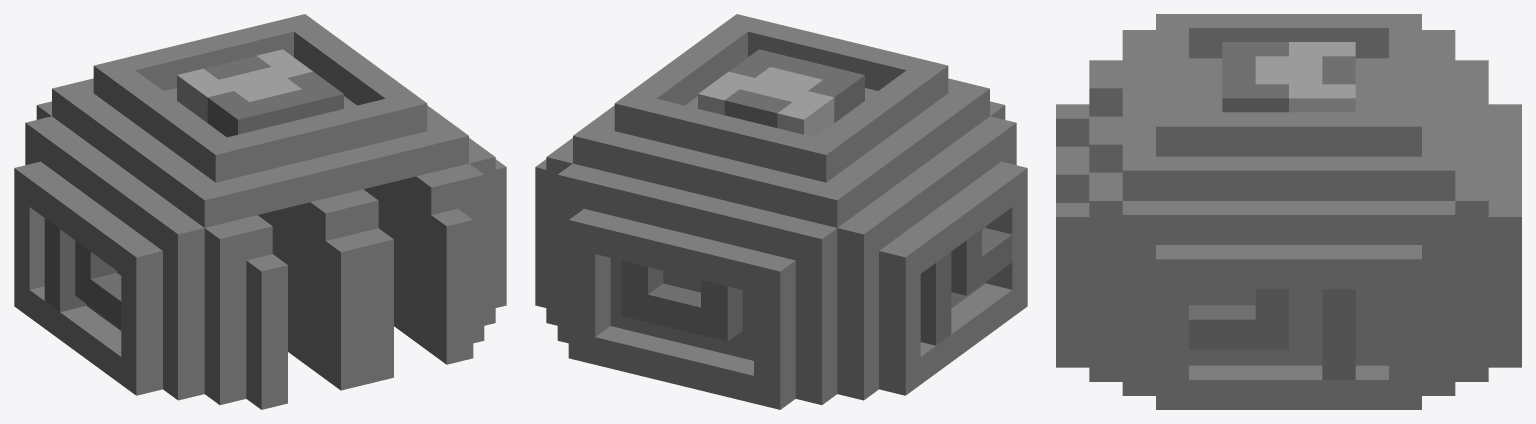
Rendered from towerheadsm.glb.
The picture shows the model from 3 angles, left to right: view 1: azimuth 30°, elevation 25°; view 2: azimuth 150°, elevation 25°; view 3: azimuth 270°, elevation 25°; orthographic projection. The views are drawn at different scales.
Parts seen in each view (by area): view 1: Untitled; view 2: Untitled; view 3: Untitled.
Part boxes in pixels (x1,y1,x2,y2): Untitled: (14,14,506,409); Untitled: (535,14,1027,409); Untitled: (1056,14,1521,409).
Size of the model in its own units: 1.75 by 1 by 1.75.
1 material, 1 textured.
